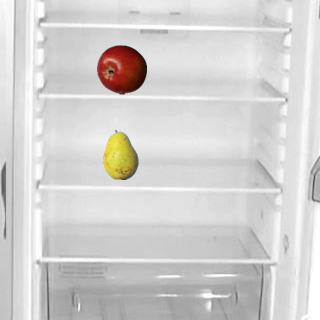Apple Braeburn: (96, 44, 146, 94)
Pear Monster: (95, 129, 145, 179)
